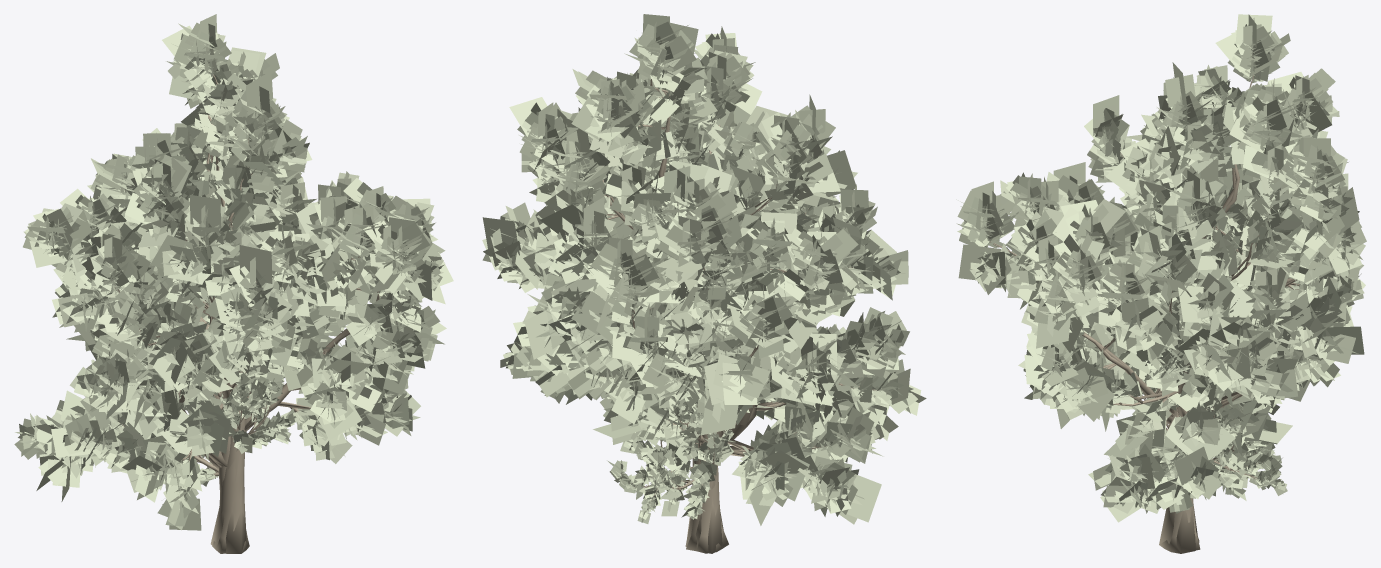
The model's file is woodland-trees.glb.
3 renders of one model, left to right at view 1: azimuth 30°, elevation 25°; view 2: azimuth 150°, elevation 25°; view 3: azimuth 270°, elevation 25°, orthographic. The views are drawn at different scales.
Visible parts, largest first — view 1: oak_near_leaves, ash_near_leaves, oak_far_leaves, ash_far_leaves, young_near_leaves, ash_near_branches, ash_far_branches, young_far_leaves, oak_near_branches; view 2: ash_near_leaves, oak_near_leaves, ash_far_leaves, oak_far_leaves, young_near_leaves, young_far_leaves, ash_near_branches, ash_far_branches; view 3: ash_near_leaves, oak_near_leaves, ash_far_leaves, oak_far_leaves, young_near_leaves, ash_far_branches, ash_near_branches, young_far_leaves, oak_near_branches.
Part boxes in pixels (box(x1,y1,x2,y2)): oak_near_leaves: box(14, 106, 431, 530); ash_near_leaves: box(23, 21, 445, 433); oak_far_leaves: box(18, 103, 412, 530); ash_far_leaves: box(25, 14, 453, 439); young_near_leaves: box(155, 316, 296, 486); ash_near_branches: box(124, 75, 390, 553); ash_far_branches: box(109, 74, 377, 553); young_far_leaves: box(187, 305, 299, 479); oak_near_branches: box(114, 138, 300, 495); ash_near_leaves: box(517, 21, 863, 431); oak_near_leaves: box(483, 91, 926, 516); ash_far_leaves: box(509, 14, 859, 435); oak_far_leaves: box(482, 94, 910, 525); young_near_leaves: box(607, 396, 733, 523); young_far_leaves: box(607, 399, 735, 517); ash_near_branches: box(593, 79, 820, 553); ash_far_branches: box(604, 79, 785, 553); ash_near_leaves: box(956, 18, 1365, 420); oak_near_leaves: box(1032, 77, 1365, 514); ash_far_leaves: box(956, 14, 1366, 431); oak_far_leaves: box(1045, 95, 1364, 522); young_near_leaves: box(1121, 374, 1287, 498); ash_far_branches: box(990, 54, 1299, 553); ash_near_branches: box(990, 75, 1324, 553); young_far_leaves: box(1131, 380, 1282, 500); oak_near_branches: box(1113, 206, 1282, 419).
Size of the model in its own units: 17.55 by 24.12 by 16.95.
